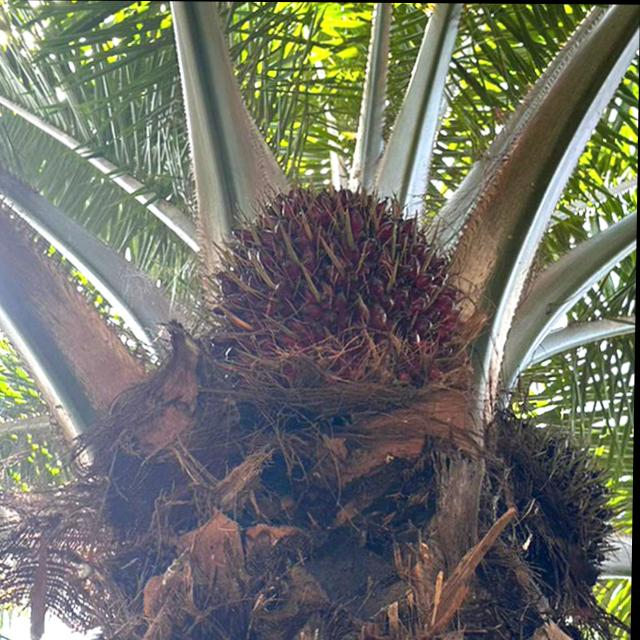ripe: (186, 163, 494, 407)
